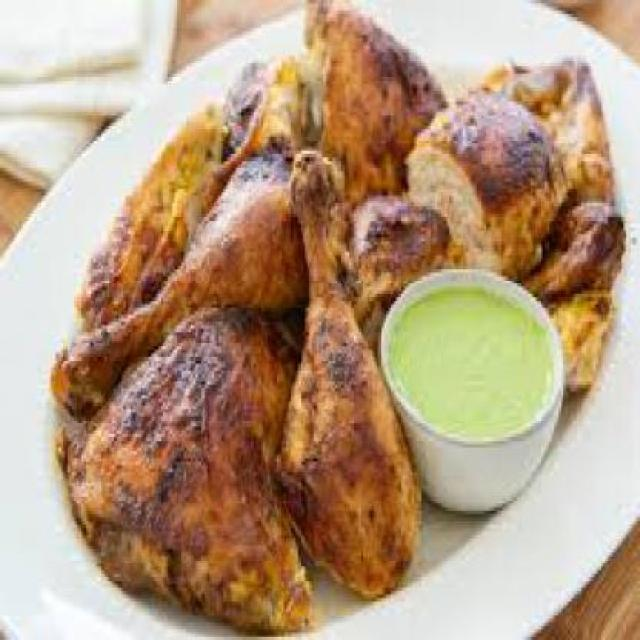Frango: (67, 14, 619, 629)
